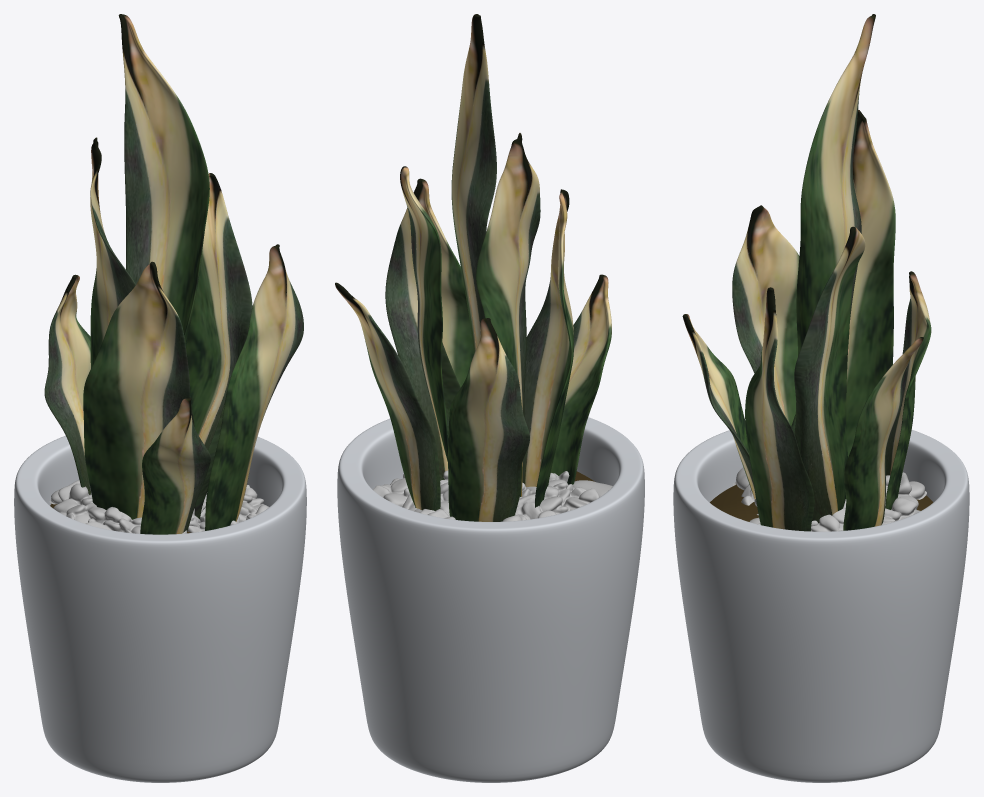
File: sansevieria_mini.glb
The picture shows the model from 3 angles, left to right: view 1: azimuth 30°, elevation 25°; view 2: azimuth 150°, elevation 25°; view 3: azimuth 270°, elevation 25°; orthographic projection. The views are drawn at different scales.
Parts seen in each view (by area): view 1: Plane.008_Plane.009, Plane.002, Plane.003, BeachPebbles.001, BeachPebbles; view 2: Plane.008_Plane.009, Plane.002, Plane.003, BeachPebbles.001, BeachPebbles; view 3: Plane.008_Plane.009, Plane.002, Plane.003, BeachPebbles.001, Plane.001.
Part boxes in pixels (left/top/right/bottom): Plane.008_Plane.009: left=14, top=435, right=306, bottom=782; Plane.002: left=44, top=14, right=303, bottom=534; Plane.003: left=83, top=261, right=194, bottom=519; BeachPebbles.001: left=49, top=480, right=205, bottom=533; BeachPebbles: left=187, top=485, right=269, bottom=532; Plane.008_Plane.009: left=337, top=417, right=644, bottom=782; Plane.002: left=335, top=14, right=611, bottom=521; Plane.003: left=522, top=189, right=573, bottom=507; BeachPebbles.001: left=414, top=471, right=612, bottom=521; BeachPebbles: left=373, top=470, right=448, bottom=511; Plane.008_Plane.009: left=673, top=430, right=969, bottom=782; Plane.002: left=682, top=14, right=931, bottom=531; Plane.003: left=732, top=205, right=799, bottom=426; BeachPebbles.001: left=733, top=467, right=926, bottom=531; Plane.001: left=710, top=484, right=932, bottom=521.
Size of the model in its own units: 0.6014 by 1.61 by 0.6014.
Materials: 6 (2 with a texture image).
